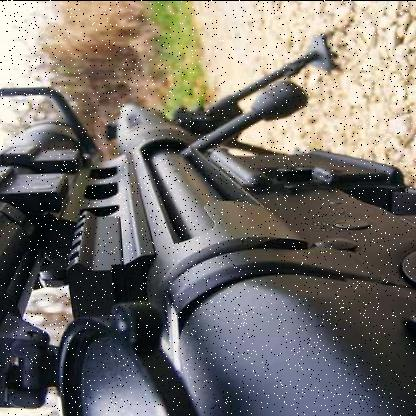rifle: (1, 78, 415, 416)
